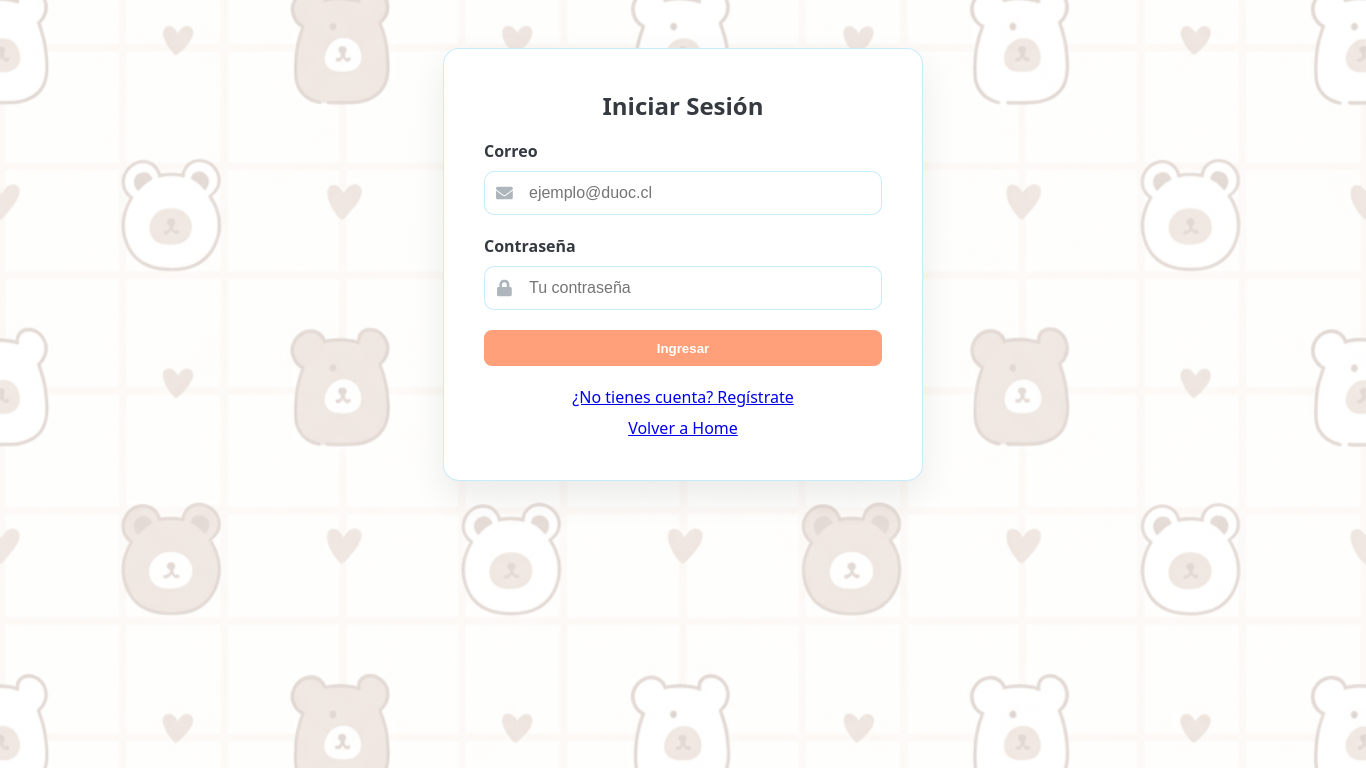
Componente: LoginForm (inicio.jsx) › debería mostrar error de validación si los campos están vacíos
Step 1. Click the button "Ingresar" → (683, 348), box [484,330,882,366]
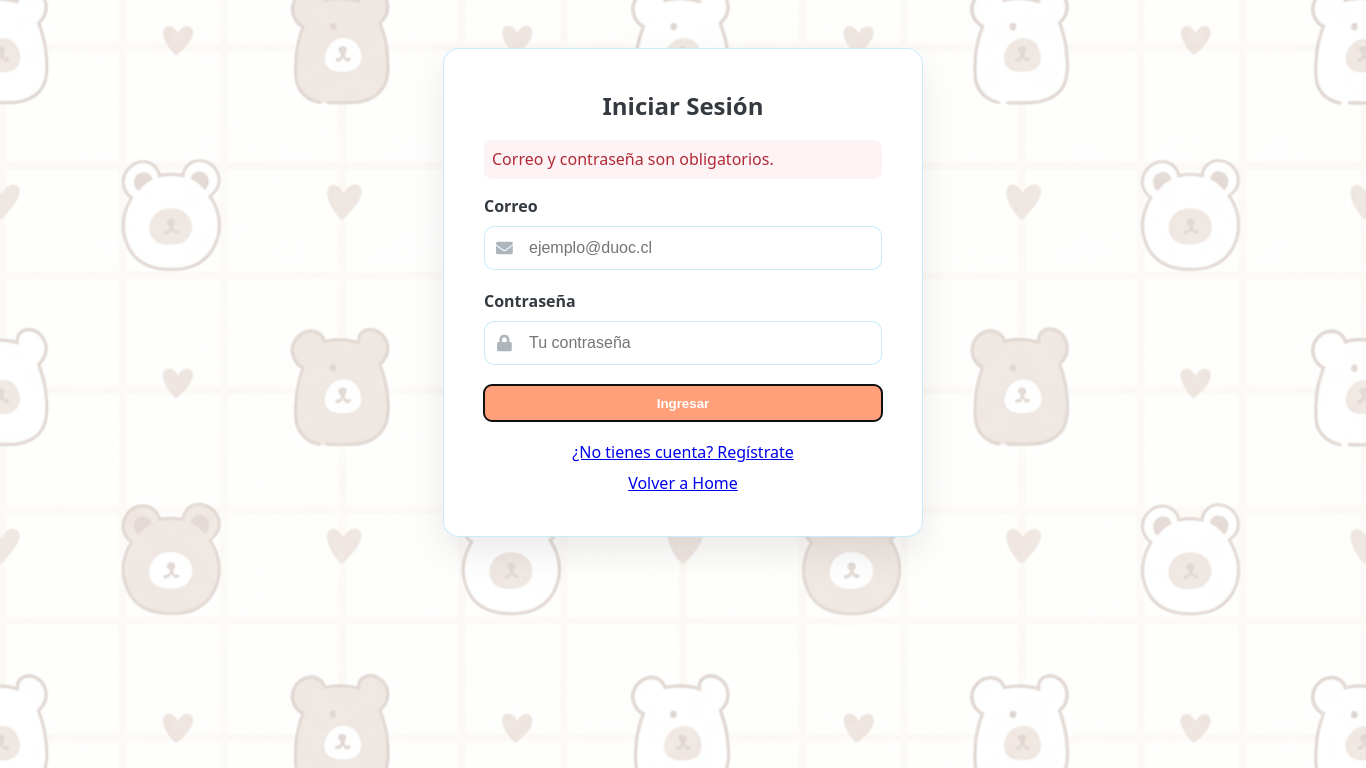
Expected: the text "Correo y contraseña son obligatorios." is shown, [484,140,882,179]
